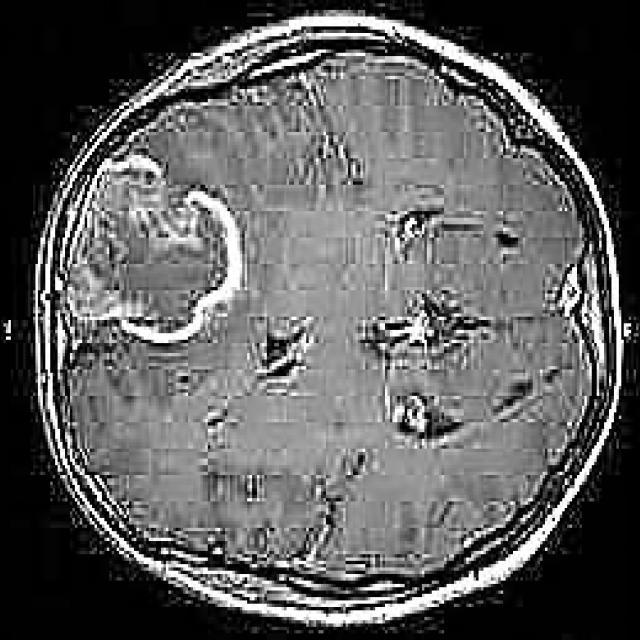tumor: (62, 152, 241, 346)
